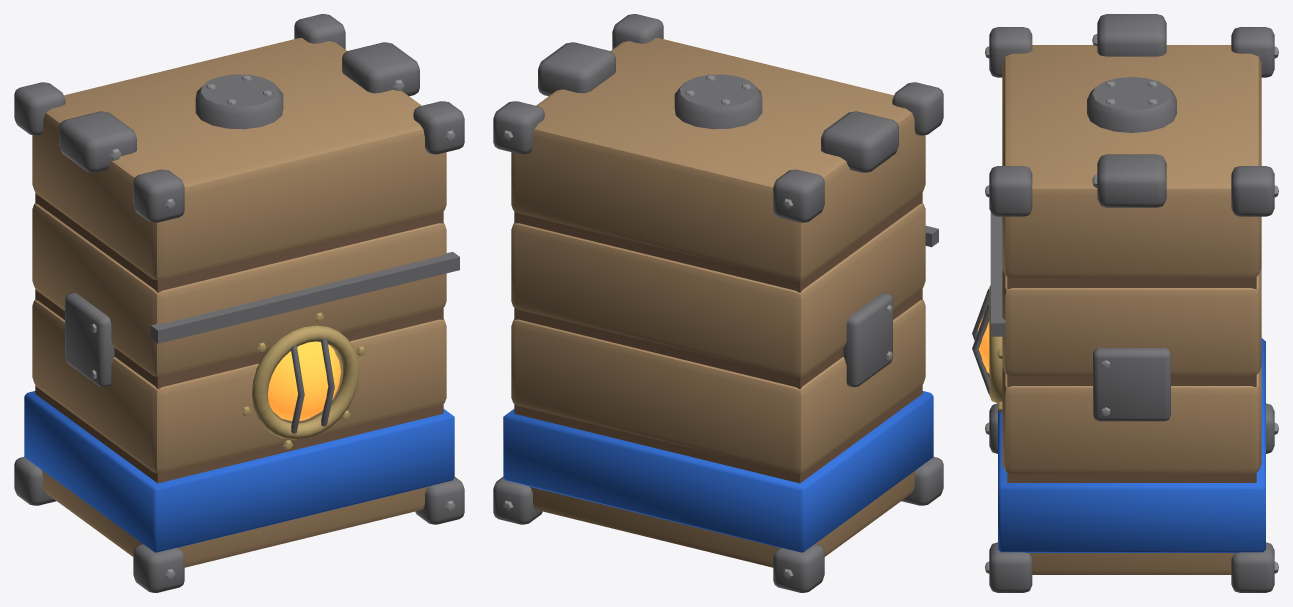
File: Kit_Core_Crate.glb
3 views of the same model, side by side, from view 1: azimuth 30°, elevation 25°; view 2: azimuth 150°, elevation 25°; view 3: azimuth 270°, elevation 25° (orthographic).
Visible parts, largest first — view 1: Kit_Core_Crate; view 2: Kit_Core_Crate; view 3: Kit_Core_Crate.
Boxes of the visible parts, <box> form: Kit_Core_Crate: <box>14,14,464,592</box>; Kit_Core_Crate: <box>493,14,943,592</box>; Kit_Core_Crate: <box>972,14,1278,592</box>.
Bounding box in the file's own units: 0.454 × 0.5546 × 0.3549.
